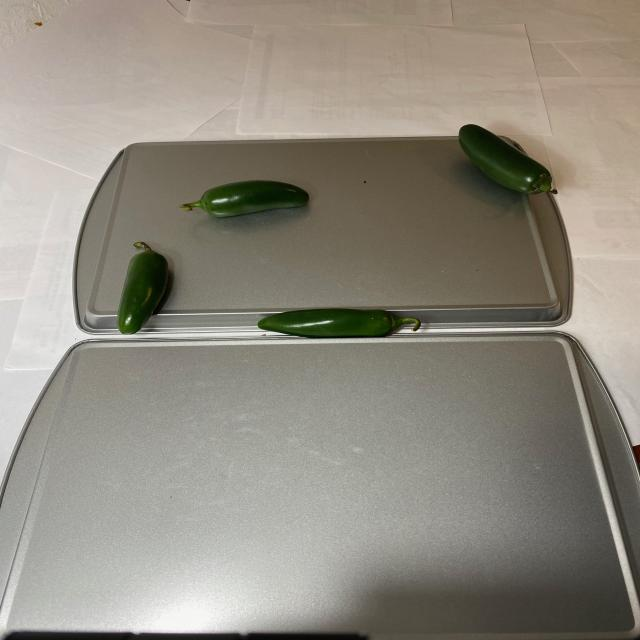chilli: (112, 181, 436, 351), (454, 122, 564, 208)
